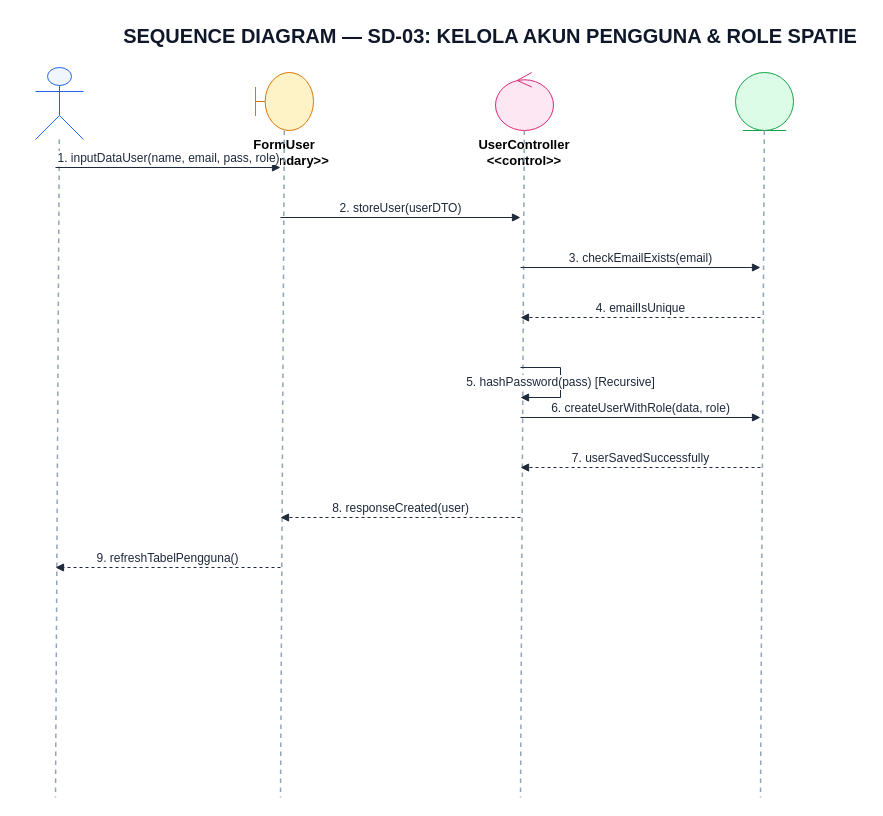
Image size: 883x816. Some labels were removed from this diagram. The centre of each missing label's shape, as x and y in pixels:
"Administrator" belongs at (59,103).
"User <<entity>>" belongs at (764,101).
